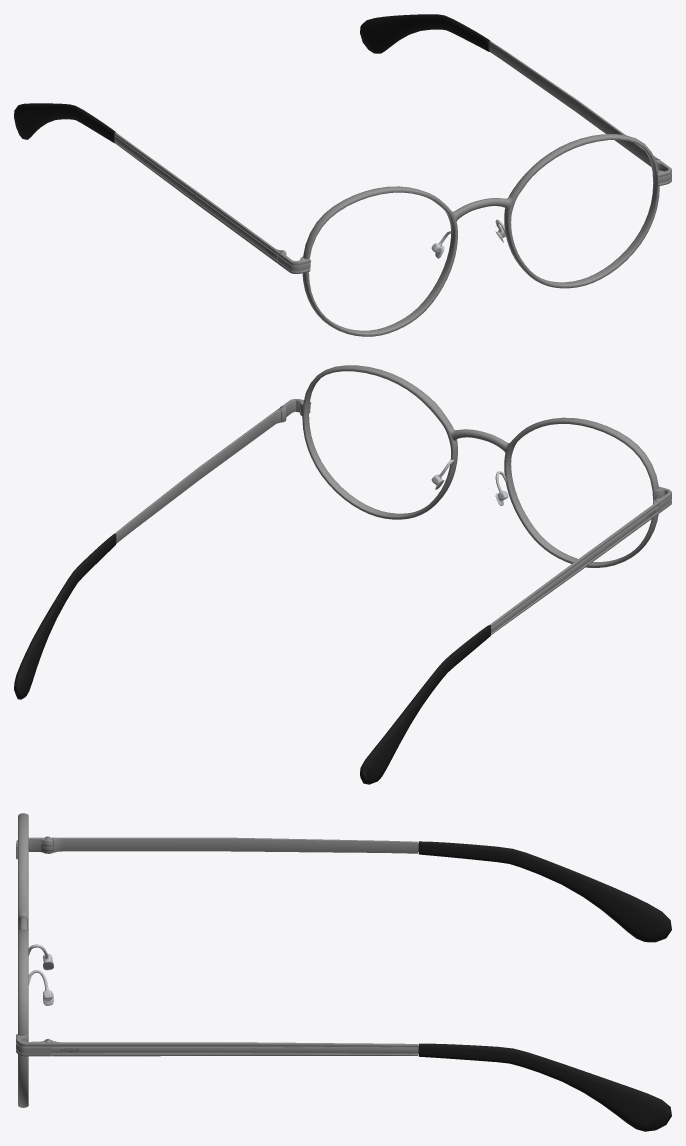
File: vogue_1.obj
3 views of the same model, one above another, from view 1: azimuth 30°, elevation 25°; view 2: azimuth 150°, elevation 25°; view 3: azimuth 270°, elevation 25° (orthographic). The views are drawn at different scales.
Parts seen in each view (by area): view 1: Cube_Cube.001; view 2: Cube_Cube.001; view 3: Cube_Cube.001.
Part boxes in pixels (left/top/right/bottom): Cube_Cube.001: left=14, top=14, right=671, bottom=336; Cube_Cube.001: left=14, top=365, right=671, bottom=784; Cube_Cube.001: left=16, top=813, right=671, bottom=1131.
Size of the model in its own units: 0.1429 by 0.0522 by 0.1925.
1 material, 1 textured.
